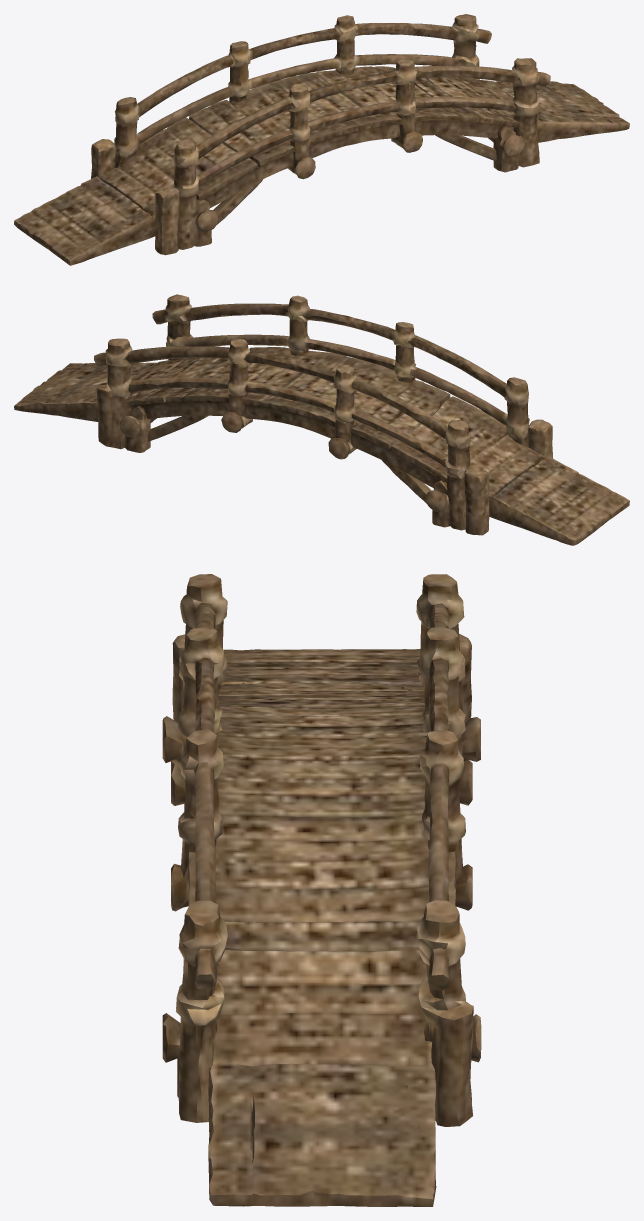
Rendered from bridge_lite.glb.
3 renders of one model, top to bottom at view 1: azimuth 30°, elevation 25°; view 2: azimuth 150°, elevation 25°; view 3: azimuth 270°, elevation 25°, orthographic. The views are drawn at different scales.
Parts seen in each view (by area): view 1: geometry_0; view 2: geometry_0; view 3: geometry_0.
Boxes of the visible parts, left/top/right/bottom form: geometry_0: left=14, top=14, right=629, bottom=265; geometry_0: left=14, top=294, right=629, bottom=545; geometry_0: left=162, top=574, right=481, bottom=1206.
Bounding box in the file's own units: 1.9 × 0.4207 × 0.4677.
Materials: 1 (1 with a texture image).
